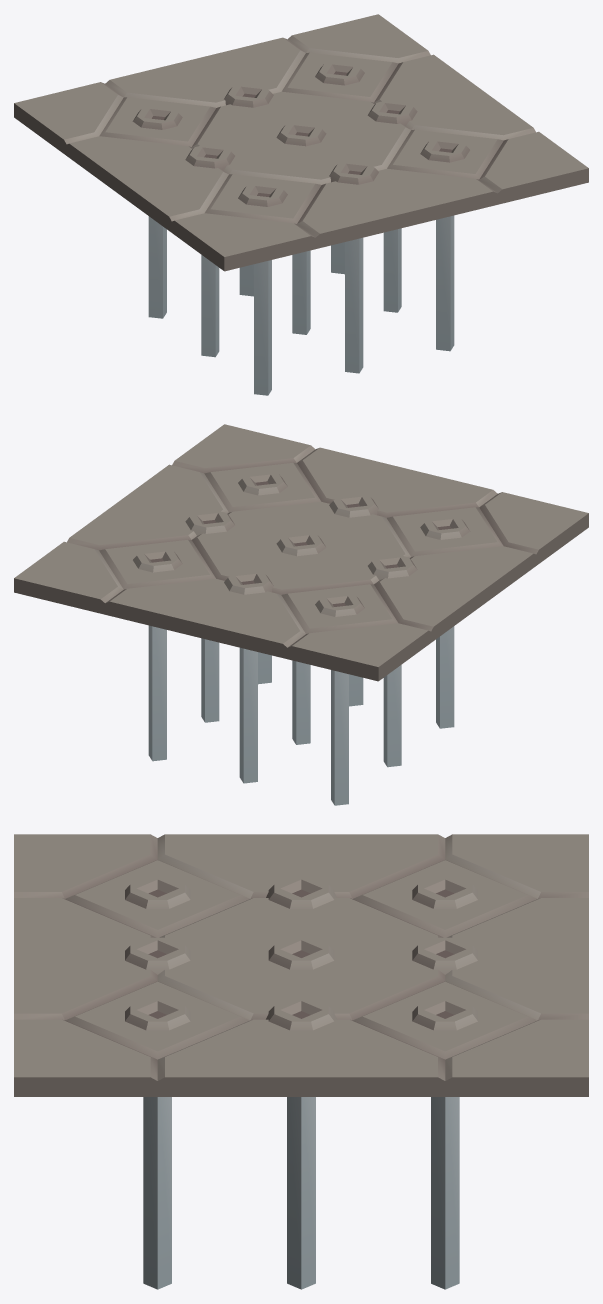
Rendered from spike_trap.glb.
3 renders of one model, top to bottom at view 1: azimuth 30°, elevation 25°; view 2: azimuth 150°, elevation 25°; view 3: azimuth 270°, elevation 25°, orthographic. The views are drawn at different scales.
Parts seen in each view (by area): view 1: floor_tile_big_spikes, spikes; view 2: floor_tile_big_spikes, spikes; view 3: floor_tile_big_spikes, spikes.
Boxes of the visible parts, bbox=[...] form: floor_tile_big_spikes: bbox=[14, 14, 588, 271]; spikes: bbox=[148, 215, 454, 395]; floor_tile_big_spikes: bbox=[14, 424, 588, 681]; spikes: bbox=[148, 625, 454, 805]; floor_tile_big_spikes: bbox=[14, 834, 588, 1096]; spikes: bbox=[143, 1097, 459, 1289].
Bounding box in the file's own units: 4 × 2.1 × 4.
2 materials, 2 textured.
